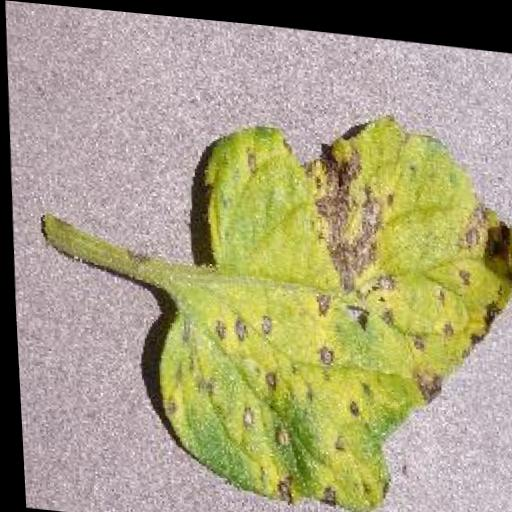Septoria: (138, 90, 512, 512)
